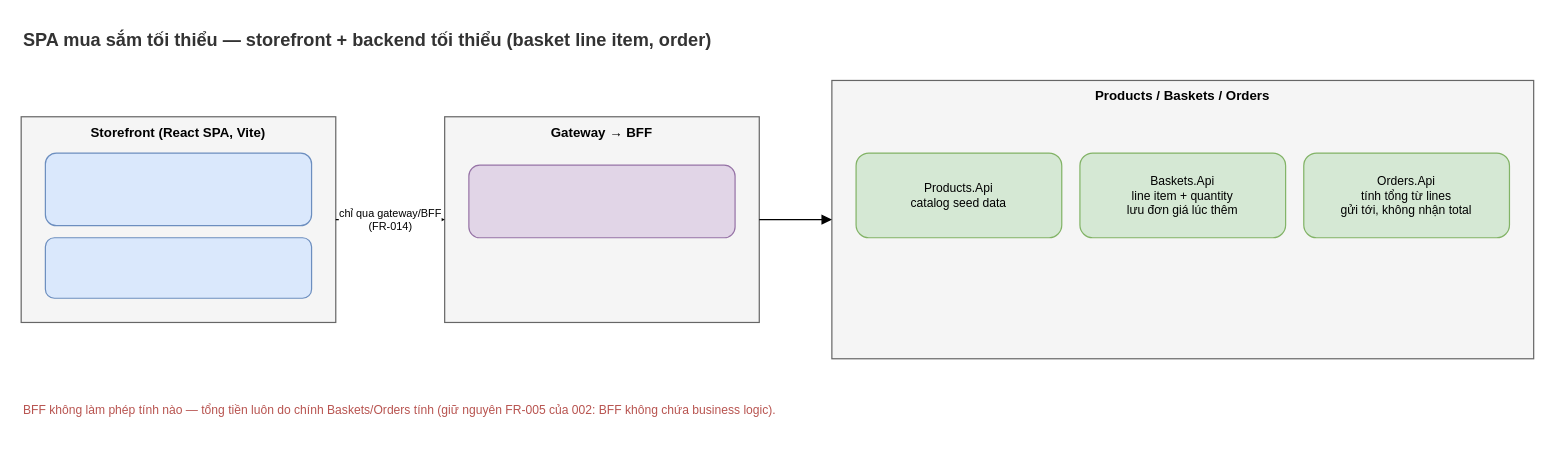
This 1555x451 diagram has some shape labels left out. The centre of each missing label's shape, as x and y in pixels:
"BFF điều phối checkout 2 bước — KHÔNG tự tính tiền" goes at point 601,201.
"Giỏ hàng KHÔNG lưu ở trình duyệt — chỉ ở backend" goes at point 178,267.
"TanStack Query hooks (sinh tự động từ OpenAPI — 007)" goes at point 178,189.
